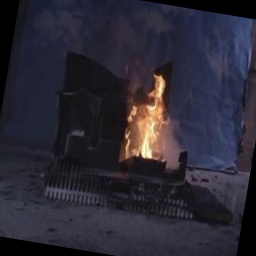fire: (118, 62, 182, 166)
